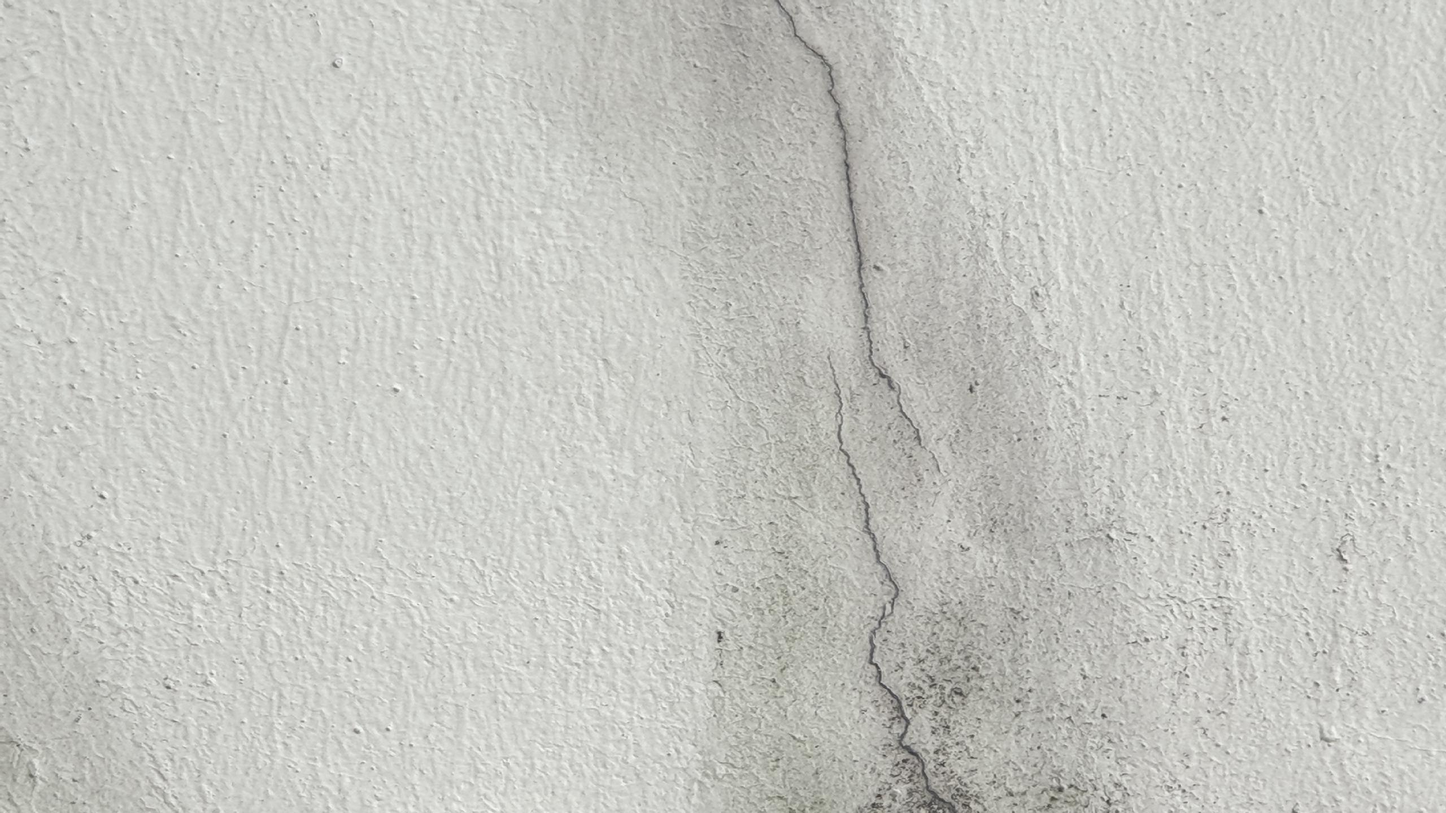crack: (773, 3, 942, 476), (825, 349, 959, 809)
